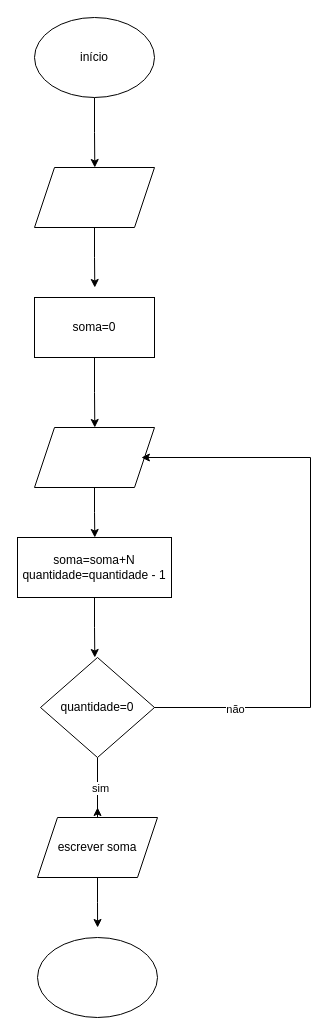
Image size: 336x1035. Some labels were removed from this diagram. Each missing label, with the box of its shape:
fim: (36, 936, 158, 1018)
ler N: (34, 426, 154, 488)
ler quantidade: (34, 166, 154, 228)
